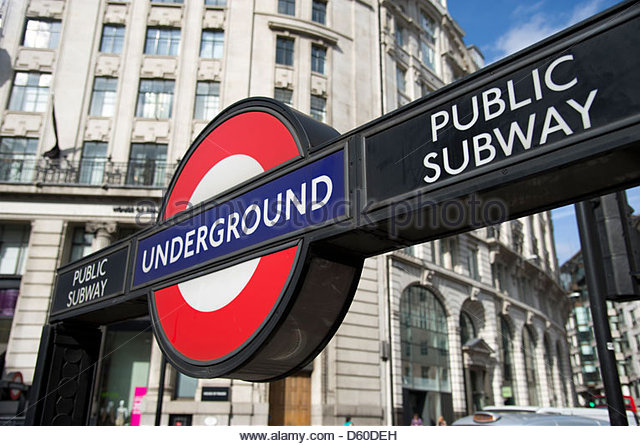London Underground: (134, 99, 344, 374)
